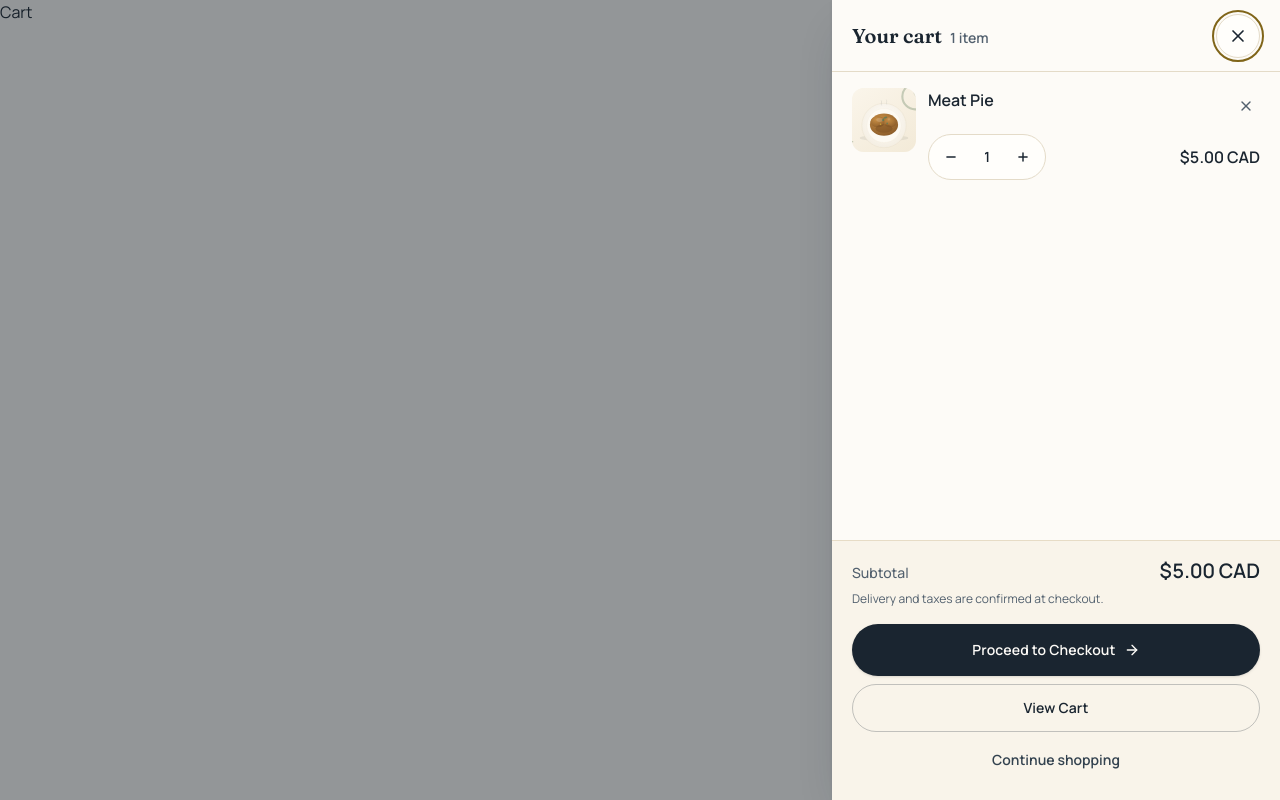
it: CartDrawer: editing lines › switches back to the empty state once the last line is removed
This screenshot has width=1280, height=800.
Click the button named "Remove Meat Pie from your cart" at [1246, 106], box [1228,88,1264,124]
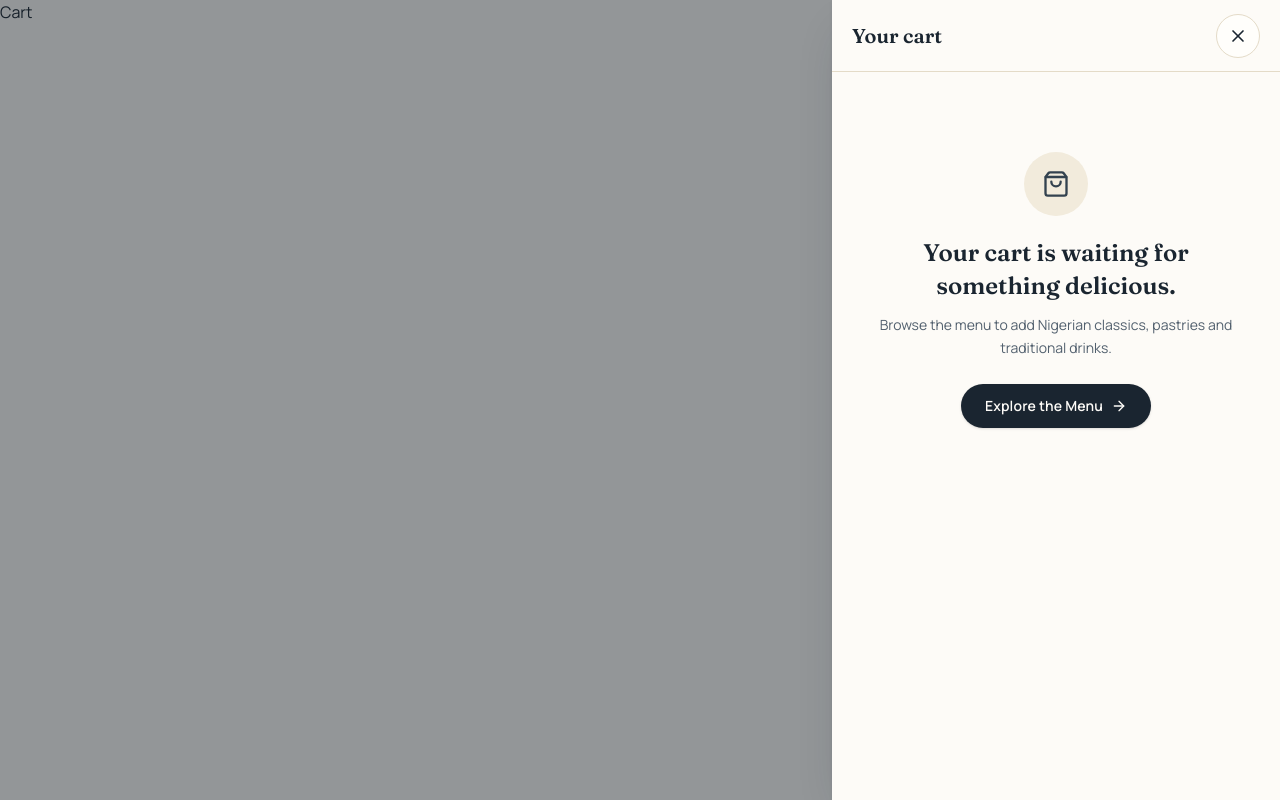
Check: the text "Your cart is waiting for something delicious." is shown, box [923,238,1189,300]
